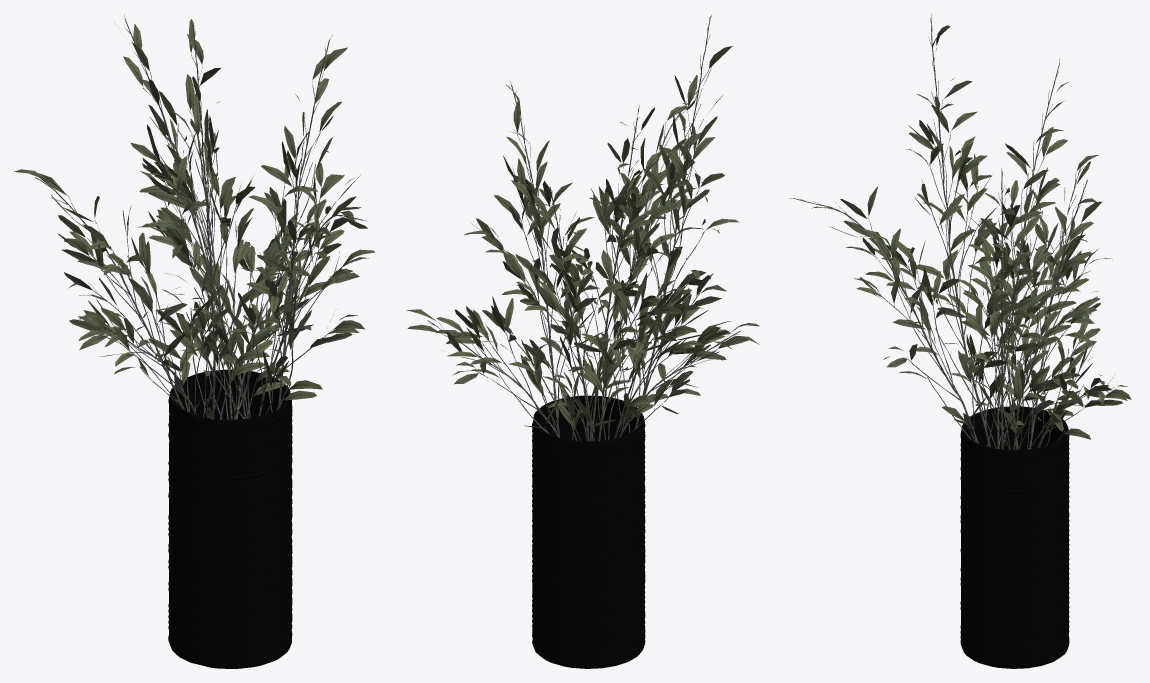
The picture shows the model from 3 angles, left to right: view 1: azimuth 30°, elevation 25°; view 2: azimuth 150°, elevation 25°; view 3: azimuth 270°, elevation 25°; orthographic projection. The views are drawn at different scales.
Parts seen in each view (by area): view 1: Olive, Vase; view 2: Olive, Vase; view 3: Olive, Vase.
Boxes of the visible parts, x1,y1,x2,y2 form: Olive: (14, 14, 374, 419); Vase: (168, 369, 292, 668); Olive: (406, 15, 759, 441); Vase: (532, 395, 645, 668); Olive: (789, 14, 1131, 450); Vase: (960, 406, 1069, 668).
Bounding box in the file's own units: 0.5443 × 1.1 × 0.5813.
Materials: 3 (2 with a texture image).
